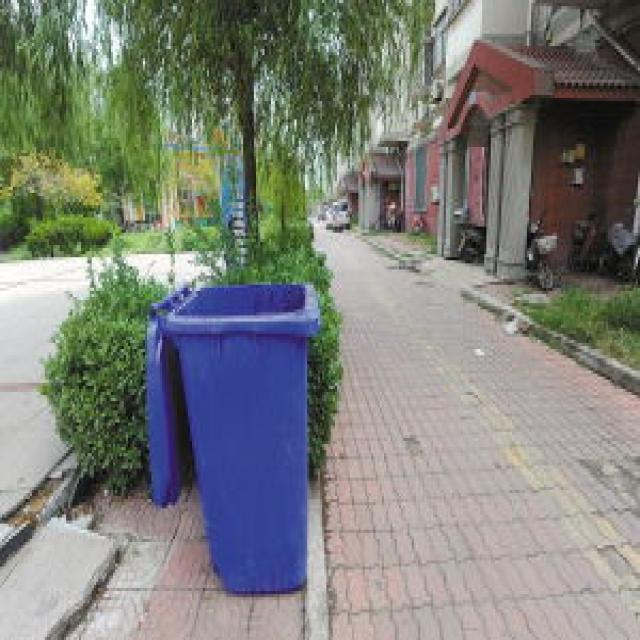garbage_bin: (143, 279, 318, 591)
